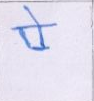e_matra: (23, 5, 42, 24)
